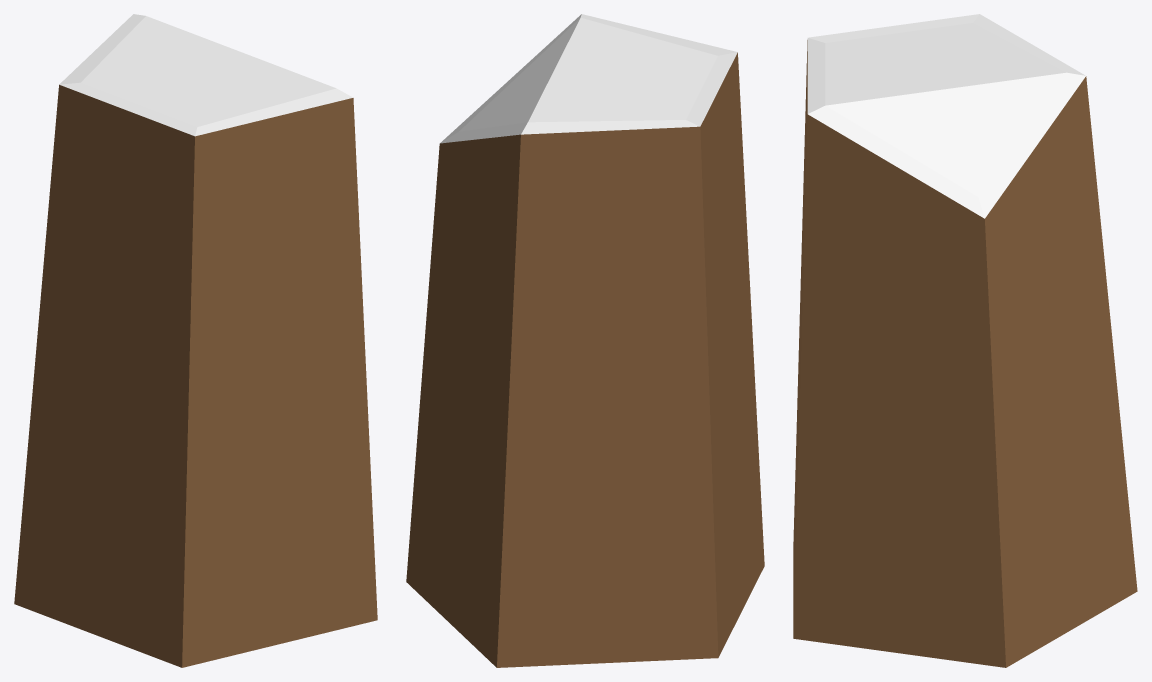
Rendered from Pine_Stump_Snow_03.fbx.
The picture shows the model from 3 angles, left to right: view 1: azimuth 30°, elevation 25°; view 2: azimuth 150°, elevation 25°; view 3: azimuth 270°, elevation 25°; orthographic projection.
Parts seen in each view (by area): view 1: Pine_Stump_Snow_03; view 2: Pine_Stump_Snow_03; view 3: Pine_Stump_Snow_03.
Boxes of the visible parts, x1=… form: Pine_Stump_Snow_03: x1=14, y1=14, x2=377, y2=667; Pine_Stump_Snow_03: x1=406, y1=14, x2=764, y2=667; Pine_Stump_Snow_03: x1=793, y1=14, x2=1137, y2=667.
Bounding box in the file's own units: 61.88 × 98.3 × 58.85.
